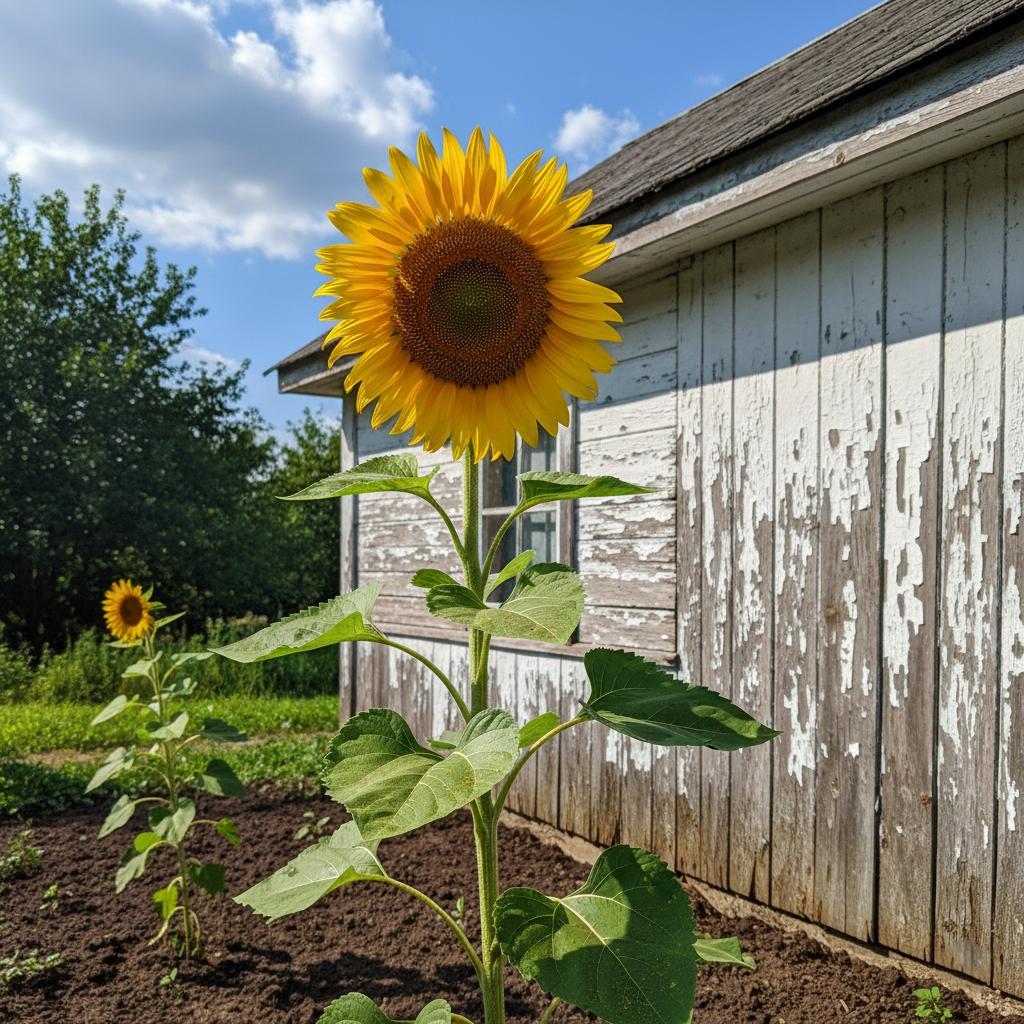sunflower: (311, 123, 624, 464), (100, 578, 158, 644)
